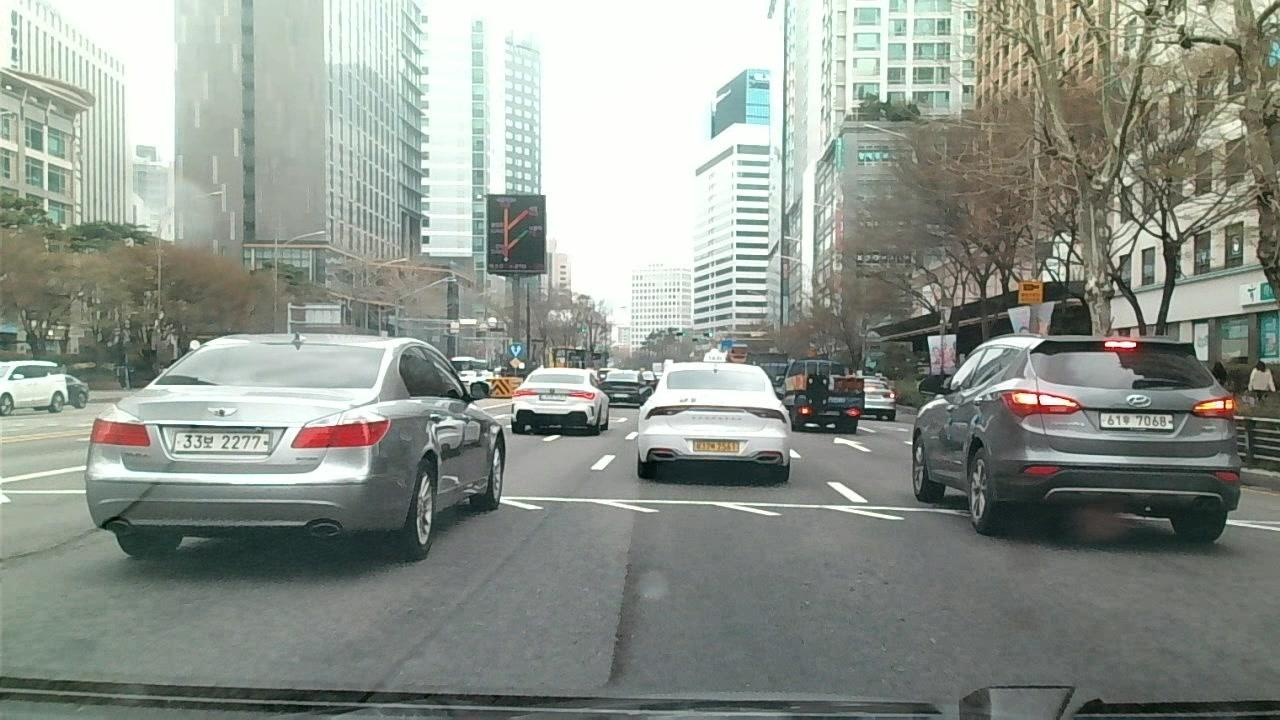banner: (355, 575, 489, 700), (599, 526, 638, 683), (490, 506, 559, 565)
